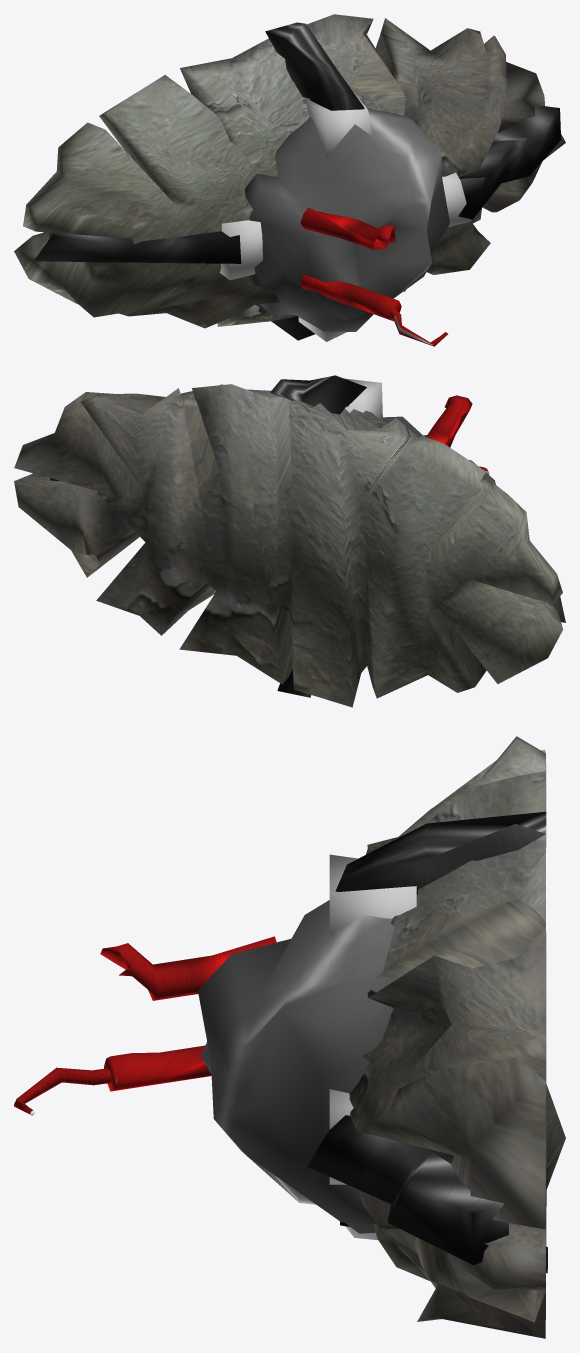
The model's file is canon.fbx.
3 renders of one model, top to bottom at view 1: azimuth 30°, elevation 25°; view 2: azimuth 150°, elevation 25°; view 3: azimuth 270°, elevation 25°, orthographic. The views are drawn at different scales.
Parts seen in each view (by area): view 1: Esfera_002, Esfera_001, Cubo_001, Cubo_000, Cubo_027, Cubo_029, Cubo_028, Cubo_007, Cubo_010, Cubo_009, Cubo_035; view 2: Esfera_002, Cubo_027, Cubo_029, Cubo_007; view 3: Esfera_002, Esfera_001, Cubo_000, Cubo_027, Cubo_029, Cubo_028, Cubo_007, Cubo_035, Cubo_009.
Part boxes in pixels (left/top/right/bottom): Esfera_002: left=14, top=14, right=565, bottom=328; Esfera_001: left=245, top=108, right=449, bottom=331; Cubo_001: left=34, top=231, right=241, bottom=263; Cubo_000: left=458, top=105, right=561, bottom=219; Cubo_027: left=265, top=22, right=364, bottom=340; Cubo_029: left=300, top=207, right=396, bottom=249; Cubo_028: left=300, top=275, right=401, bottom=321; Cubo_007: left=303, top=83, right=371, bottom=158; Cubo_010: left=219, top=220, right=262, bottom=280; Cubo_009: left=442, top=172, right=471, bottom=226; Cubo_035: left=390, top=308, right=447, bottom=346; Esfera_002: left=14, top=384, right=562, bottom=707; Cubo_027: left=270, top=375, right=366, bottom=697; Cubo_029: left=427, top=395, right=472, bottom=447; Cubo_007: left=345, top=378, right=382, bottom=421; Esfera_002: left=349, top=736, right=565, bottom=1338; Esfera_001: left=198, top=900, right=396, bottom=1233; Cubo_000: left=306, top=1115, right=508, bottom=1264; Cubo_027: left=335, top=811, right=547, bottom=1273; Cubo_029: left=100, top=936, right=276, bottom=1000; Cubo_028: left=104, top=1045, right=211, bottom=1091; Cubo_007: left=329, top=854, right=416, bottom=935; Cubo_035: left=14, top=1067, right=111, bottom=1115; Cubo_009: left=329, top=1089, right=353, bottom=1184.
Size of the model in its own units: 2.91 by 1.52 by 1.67.
